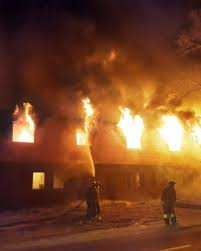fire: (62, 85, 198, 159), (7, 89, 43, 154)
